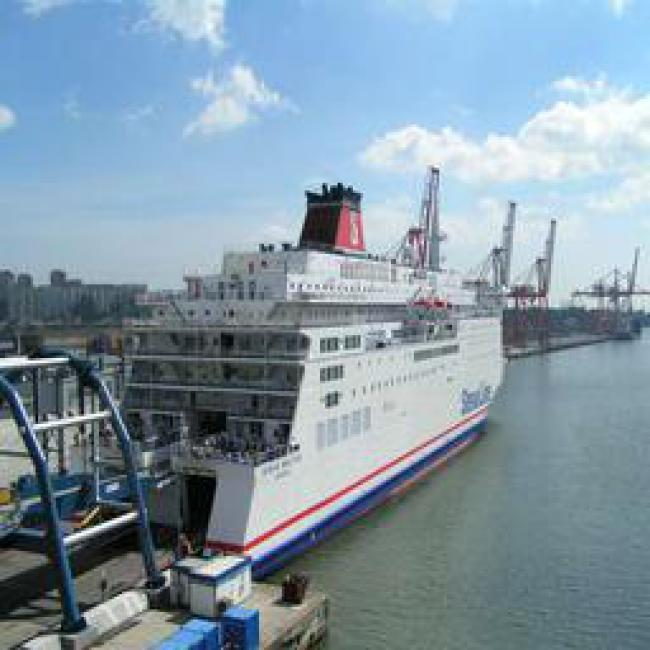Ship: (140, 236, 536, 500)
